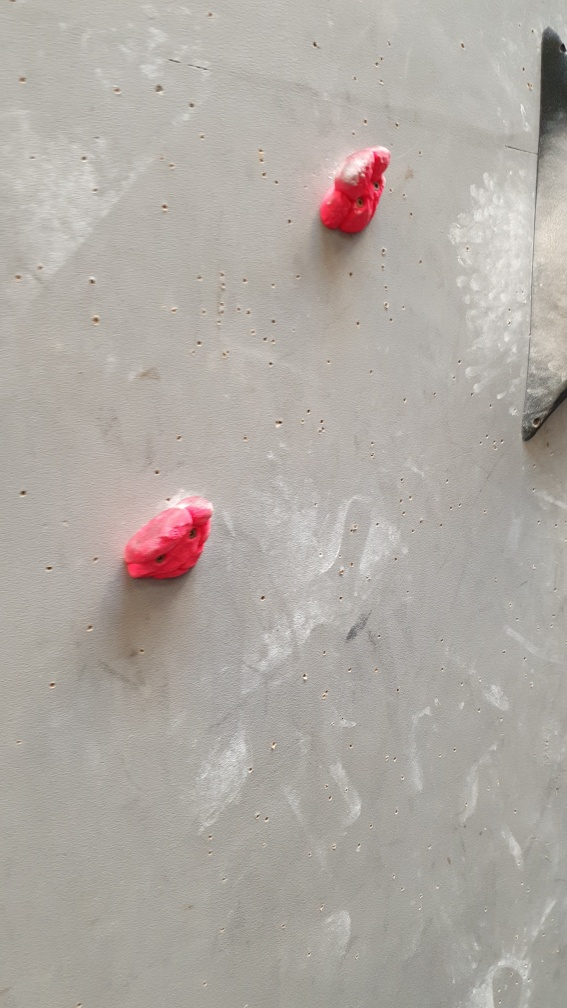Jug: (128, 489, 213, 584), (321, 140, 390, 237)
